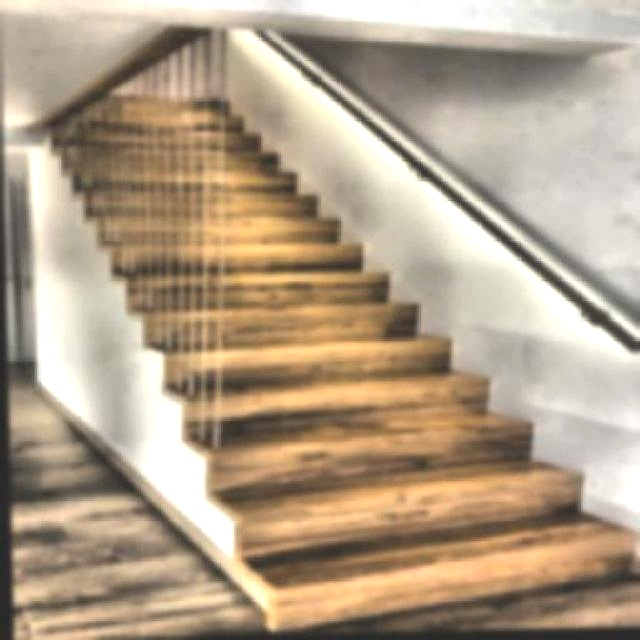stair: (1, 83, 638, 557)
